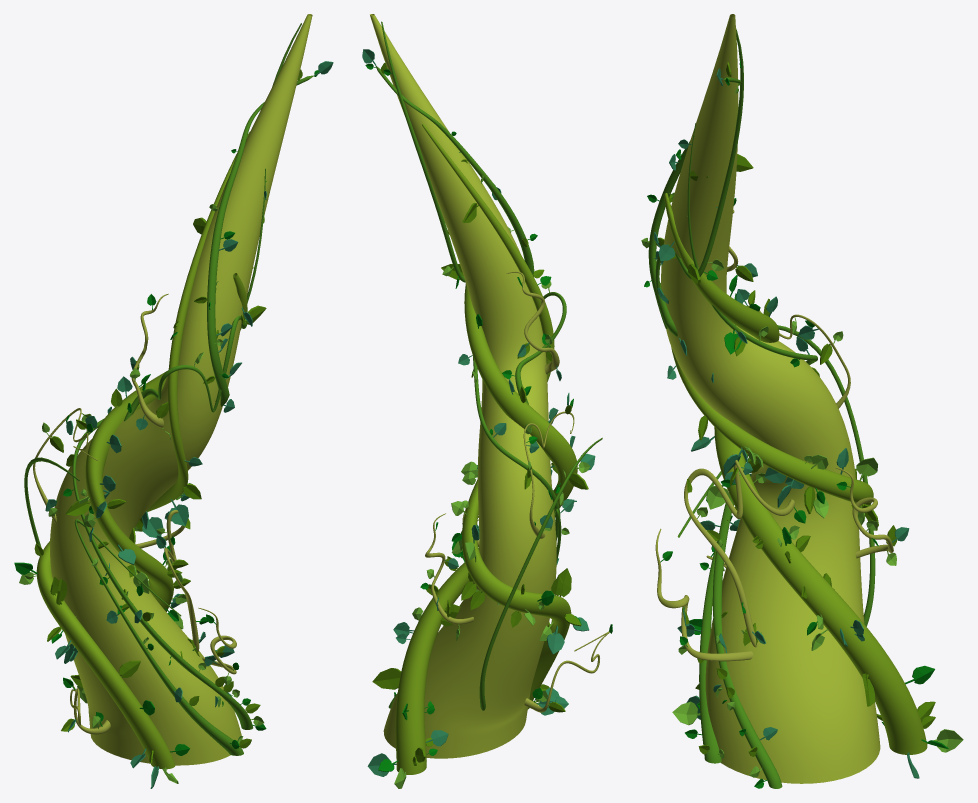
File: Bohnenranke2.fbx
3 renders of one model, left to right at view 1: azimuth 30°, elevation 25°; view 2: azimuth 150°, elevation 25°; view 3: azimuth 270°, elevation 25°, orthographic. The views are drawn at different scales.
Parts seen in each view (by area): view 1: NurbsPath.038, NurbsPath.041, NurbsPath.040, NurbsPath.052, NurbsPath.042, NurbsPath.047, NurbsPath.051, NurbsPath.043, NurbsPath.049, NurbsPath.044; view 2: NurbsPath.038, NurbsPath.040, NurbsPath.041, NurbsPath.051, NurbsPath.052, NurbsPath.048, NurbsPath.042, NurbsPath.049, NurbsPath.045, NurbsPath.050, NurbsPath.044, NurbsPath.040|Plane.003|Dupli|44; view 3: NurbsPath.038, NurbsPath.040, NurbsPath.041, NurbsPath.042, NurbsPath.043, NurbsPath.047, NurbsPath.051, NurbsPath.052, NurbsPath.048, NurbsPath.046, NurbsPath.050.
Boxes of the visible parts, x1,y1,x2,y2 form: NurbsPath.038: [50, 14, 312, 765]; NurbsPath.041: [36, 131, 250, 769]; NurbsPath.040: [85, 273, 247, 611]; NurbsPath.052: [207, 75, 314, 406]; NurbsPath.042: [72, 168, 265, 729]; NurbsPath.047: [74, 519, 243, 755]; NurbsPath.051: [124, 23, 301, 421]; NurbsPath.043: [136, 510, 199, 651]; NurbsPath.049: [131, 293, 168, 427]; NurbsPath.044: [33, 408, 97, 524]; NurbsPath.038: [370, 14, 556, 758]; NurbsPath.040: [395, 283, 577, 774]; NurbsPath.041: [422, 123, 571, 709]; NurbsPath.051: [381, 21, 566, 404]; NurbsPath.052: [375, 65, 534, 276]; NurbsPath.048: [479, 437, 602, 710]; NurbsPath.042: [388, 356, 560, 708]; NurbsPath.049: [506, 271, 559, 374]; NurbsPath.045: [524, 631, 609, 712]; NurbsPath.050: [425, 513, 473, 624]; NurbsPath.044: [523, 411, 574, 538]; NurbsPath.040|Plane.003|Dupli|44: [372, 668, 401, 689]; NurbsPath.038: [661, 14, 880, 783]; NurbsPath.040: [663, 193, 927, 754]; NurbsPath.041: [671, 347, 873, 629]; NurbsPath.042: [687, 123, 817, 788]; NurbsPath.043: [684, 454, 795, 647]; NurbsPath.047: [677, 457, 750, 763]; NurbsPath.051: [655, 28, 743, 328]; NurbsPath.052: [648, 77, 741, 336]; NurbsPath.048: [777, 325, 875, 626]; NurbsPath.046: [655, 528, 753, 661]; NurbsPath.050: [835, 467, 893, 558].
Bounding box in the file's own units: 499 × 1300 × 468.
